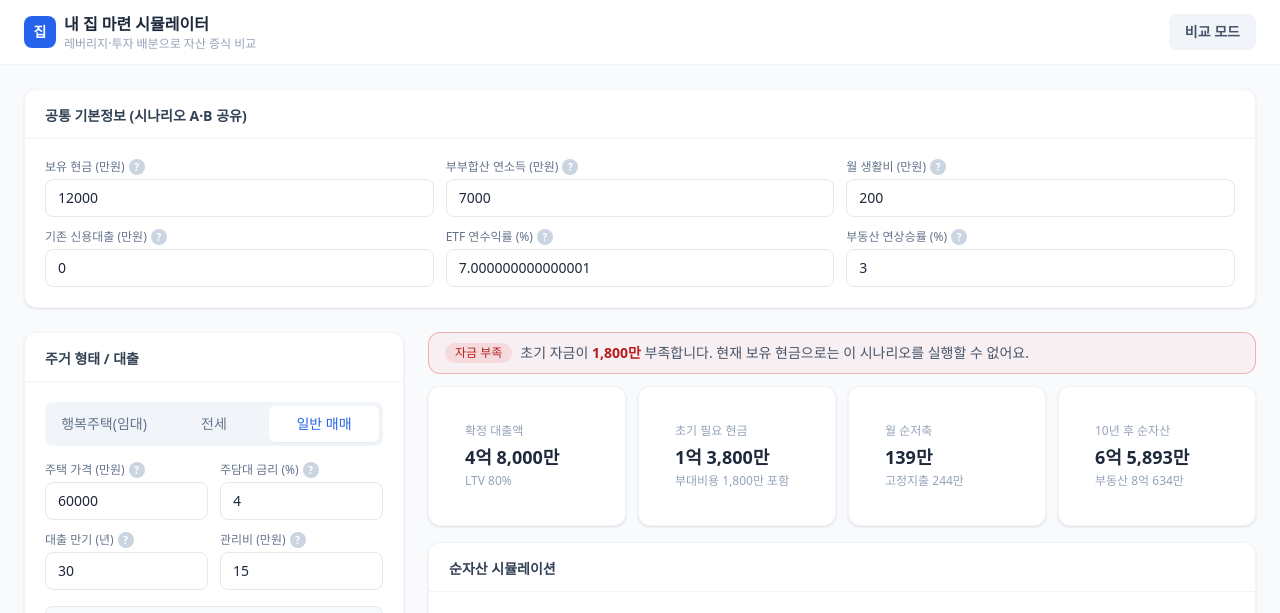
App 통합 렌더 › 비교 모드 토글 시 A/B 비교 요약이 렌더된다
This screenshot has width=1280, height=613.
Click the button "비교 모드".
click(1212, 32)  # box left=1169, top=14, right=1256, bottom=50
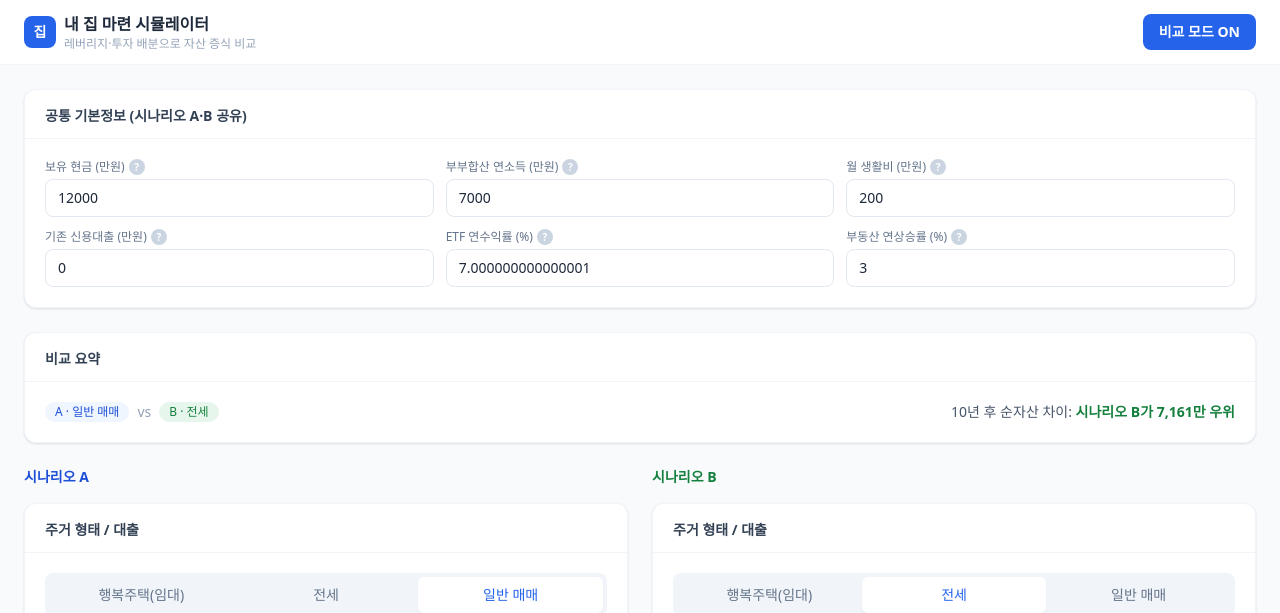
Now the heading "비교 요약" is shown, box left=45, top=349, right=100, bottom=369
